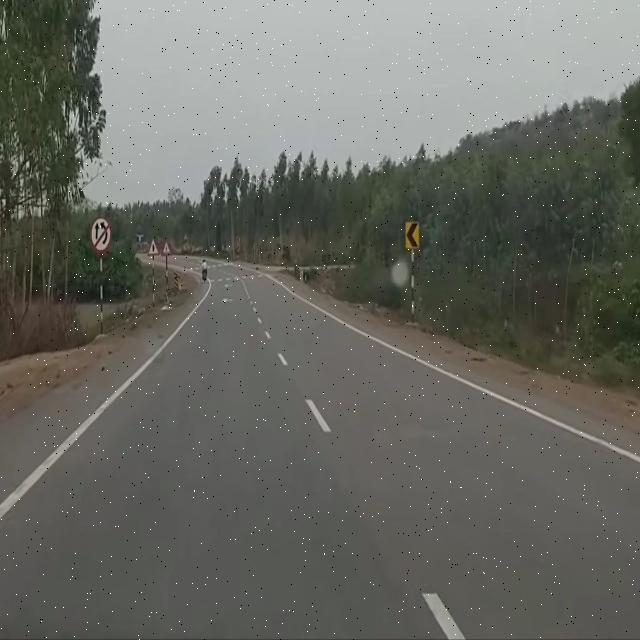No_overtaking: (90, 216, 112, 254)
Pedestrain_crossing: (163, 239, 170, 255)
Sideroad_toright: (148, 238, 158, 255)
chevron_left: (404, 222, 420, 251)
